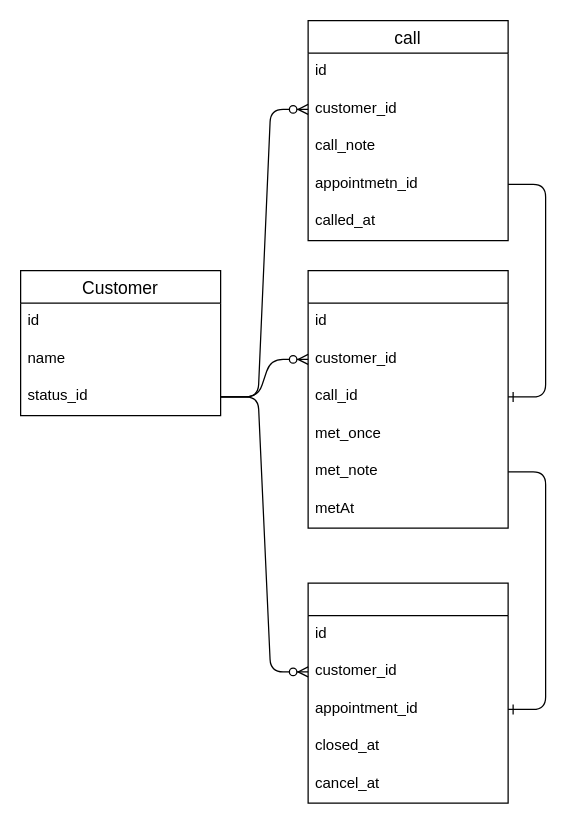
Image size: 566x824. Some labels were removed from this diagram. Each missing label, with the box of its shape:
Appointment: (307, 269, 508, 528)
Closing: (307, 582, 508, 803)
